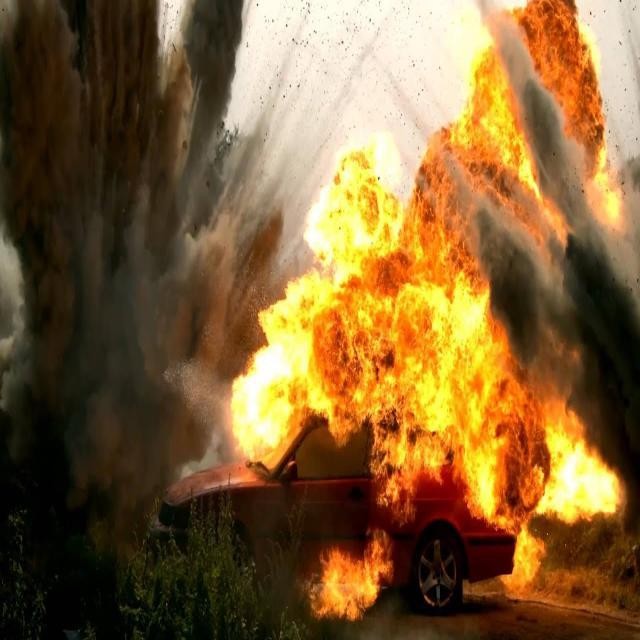fire: (197, 68, 611, 616)
